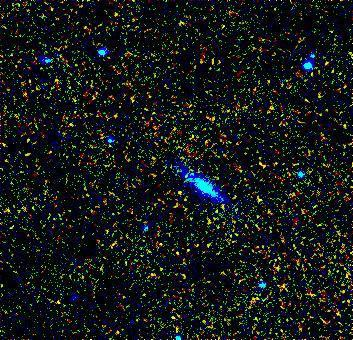star: (164, 176, 194, 206)
